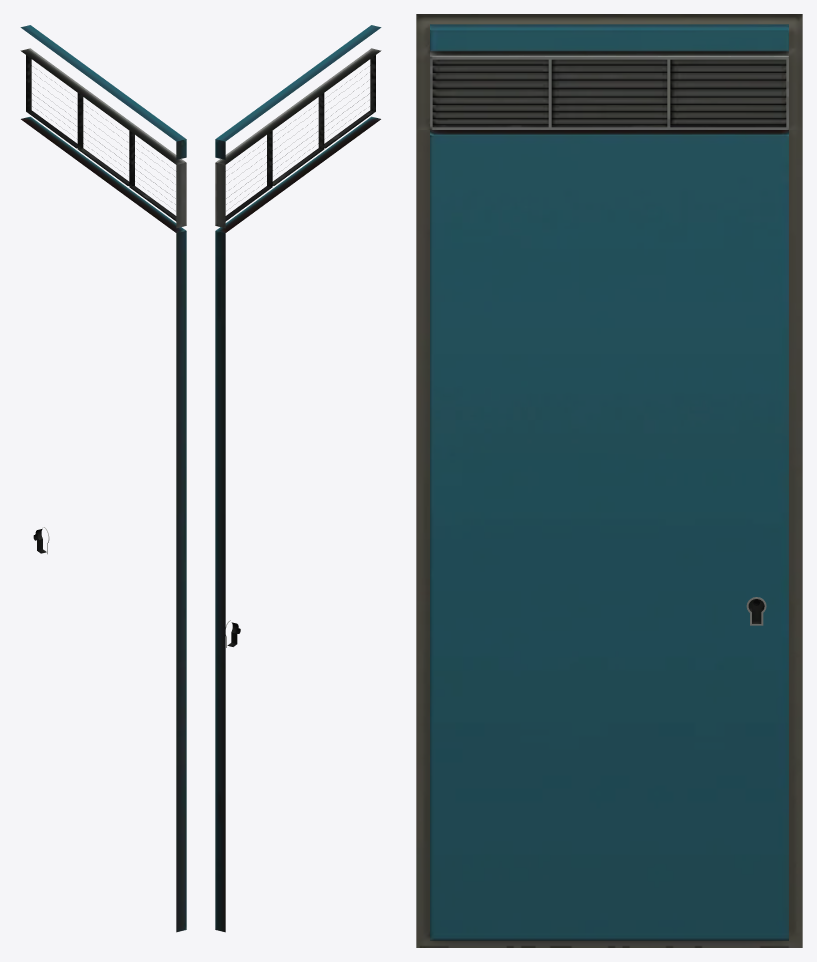
3 renders of one model, left to right at view 1: azimuth 30°, elevation 25°; view 2: azimuth 150°, elevation 25°; view 3: azimuth 270°, elevation 25°, orthographic. The views are drawn at different scales.
Parts seen in each view (by area): view 1: body0_model0_lod0_mesh0; view 2: body0_model0_lod0_mesh0; view 3: body0_model0_lod0_mesh0.
Boxes of the visible parts, x1,y1,x2,y2 form: body0_model0_lod0_mesh0: (20,25,186,932); body0_model0_lod0_mesh0: (215,25,381,932); body0_model0_lod0_mesh0: (416,14,802,947).
Size of the model in its own units: 1.73 by 128 by 48.01.
1 material, 1 textured.
